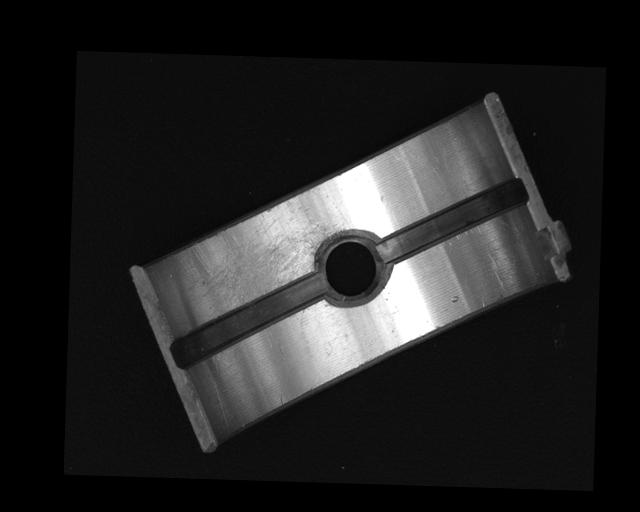bruise: (449, 294, 460, 303)
gap: (173, 271, 323, 372), (377, 174, 526, 266)
hole: (317, 229, 385, 306)
nick: (486, 251, 509, 295)
scratch: (193, 188, 341, 320)
